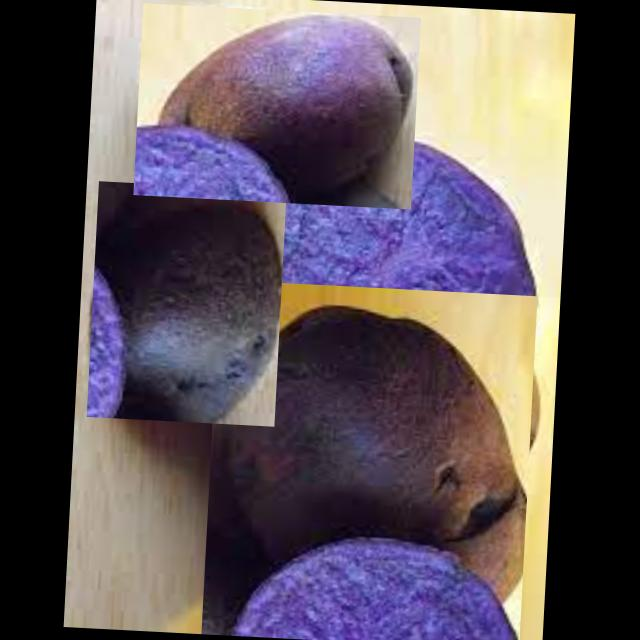Damaged potato: (201, 279, 537, 640), (133, 2, 421, 208), (86, 180, 286, 426)
Defected potato: (236, 124, 546, 409)
